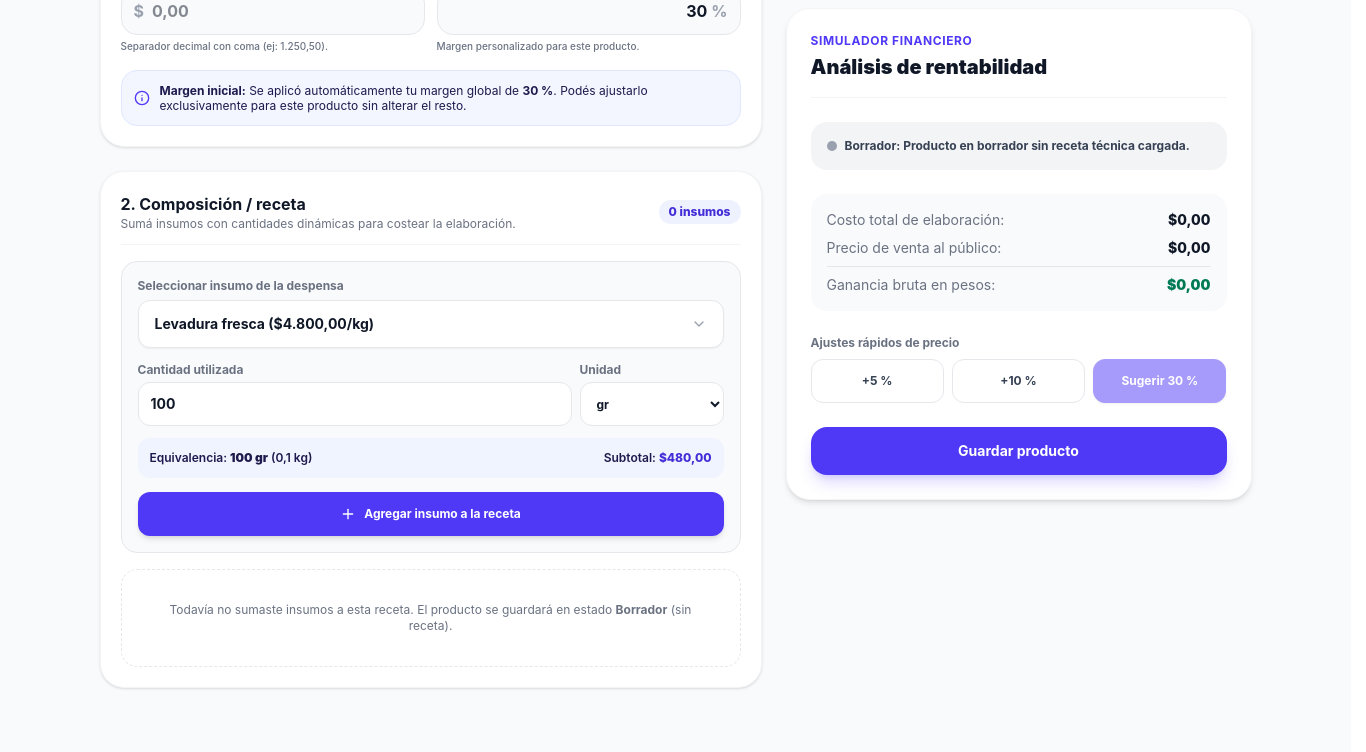
NewProductPage - edición de cantidades en la lista de receta › una cantidad menor al mínimo se avisa, no cambia la receta y se restaura la vigente
(page scrolled)
Click the button "Agregar insumo a la receta": click(430, 514) [138,492,724,536]
(page scrolled)
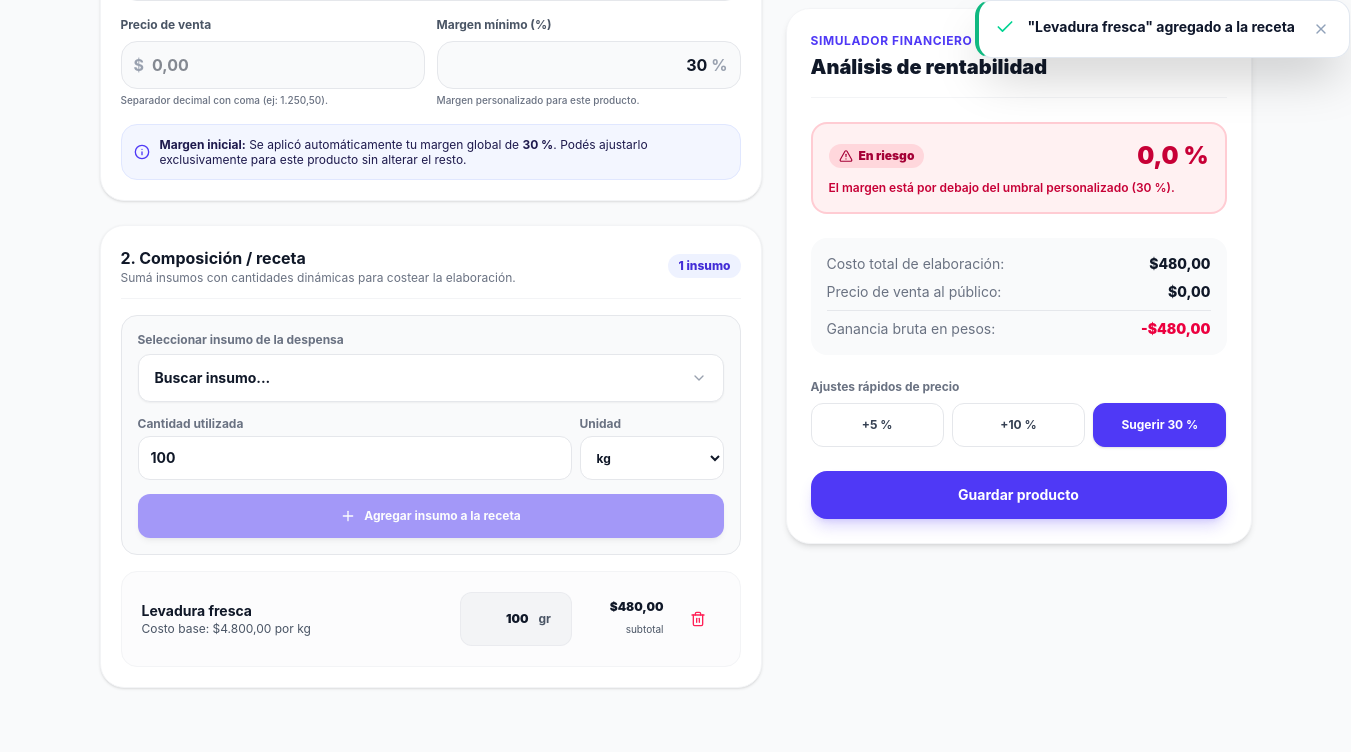
Expected: the field named "Cantidad de Levadura fresca" holds "100"
Replace the text in the field named "Cantidad de Levadura fresca" with "0,3": (500, 619) [472,611,528,627]
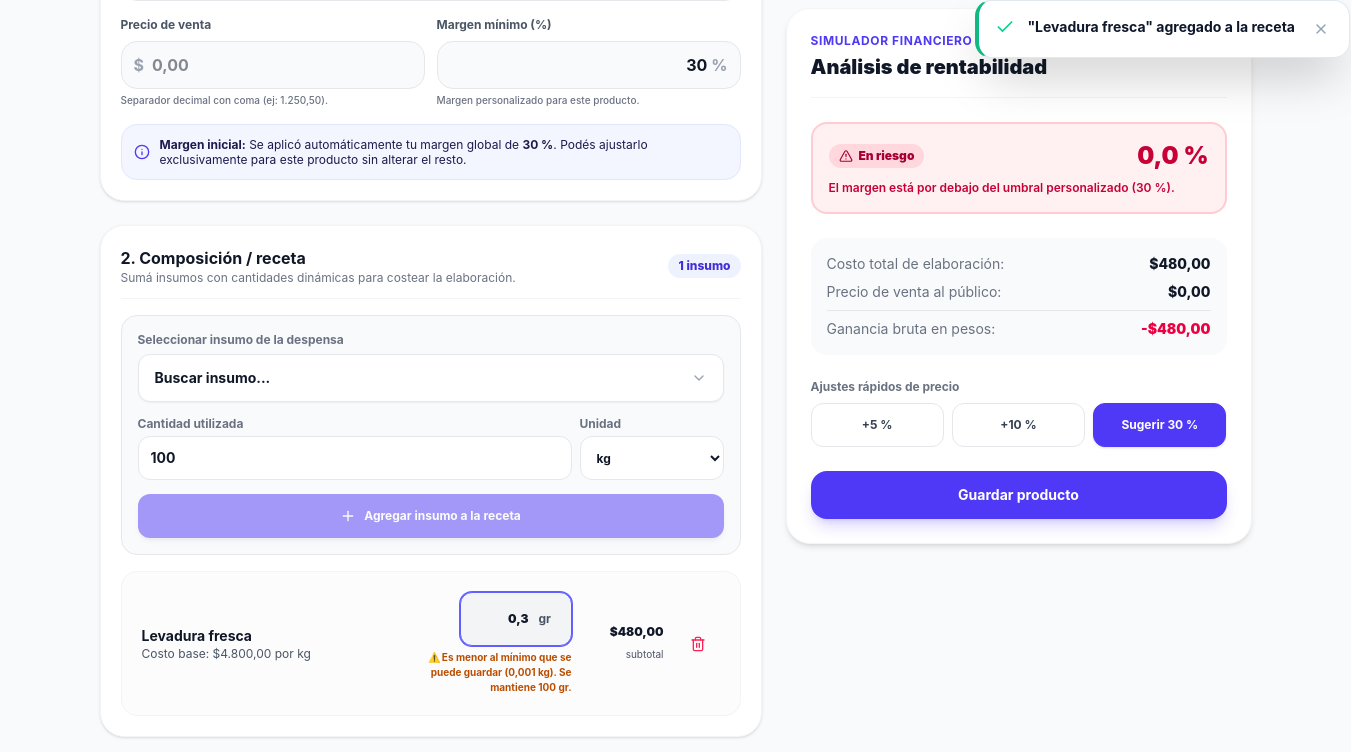
Press Tab
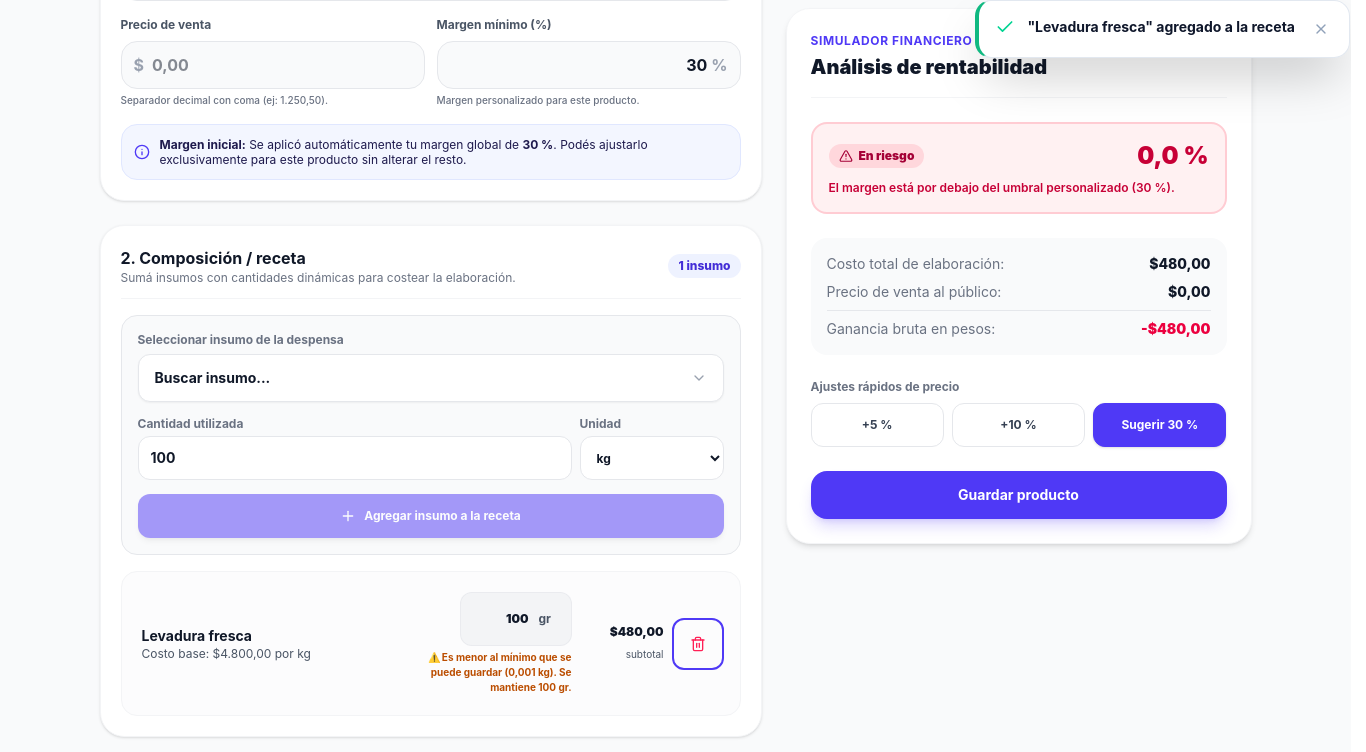
Expected: the message "⚠️ Es menor al mínimo que se puede guardar (0,001 kg). Se mantiene 100 gr." is shown, [428,650,572,695]
Expected: the field named "Cantidad de Levadura fresca" holds "100", [472,611,528,627]
